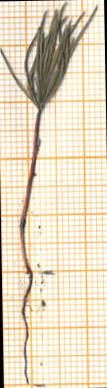flower: (0, 3, 97, 109)
root: (21, 269, 32, 384)
stem: (20, 111, 40, 274)
